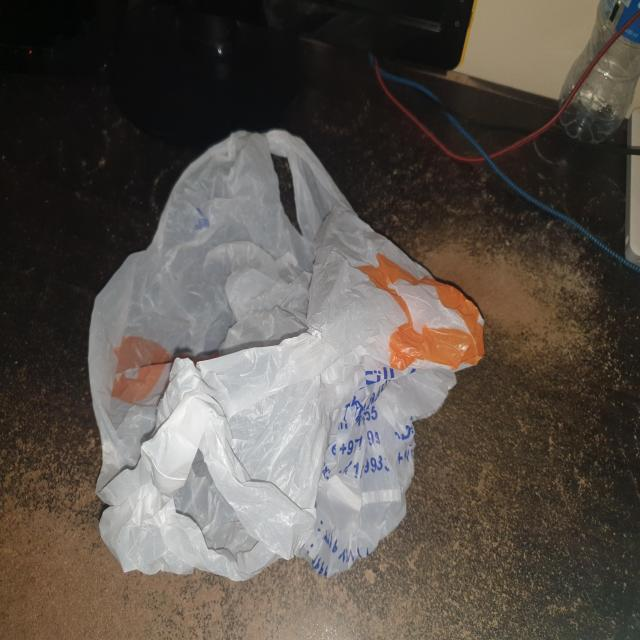plastic bag: (85, 125, 488, 586)
